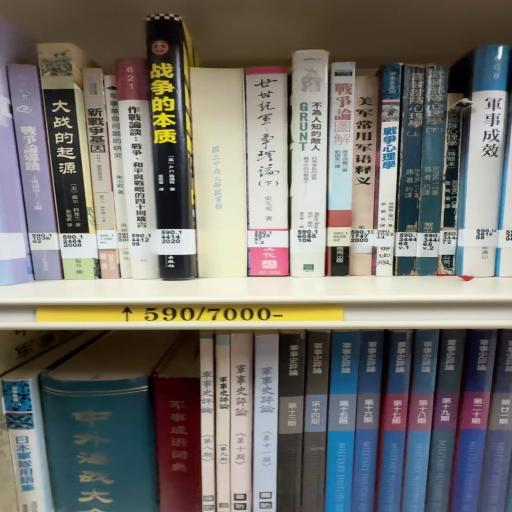backward: (193, 69, 248, 278)
book: (144, 14, 196, 280), (35, 44, 93, 276), (4, 61, 65, 281), (192, 67, 252, 279), (243, 63, 288, 277), (293, 54, 333, 283), (154, 376, 204, 512), (255, 336, 282, 512)
